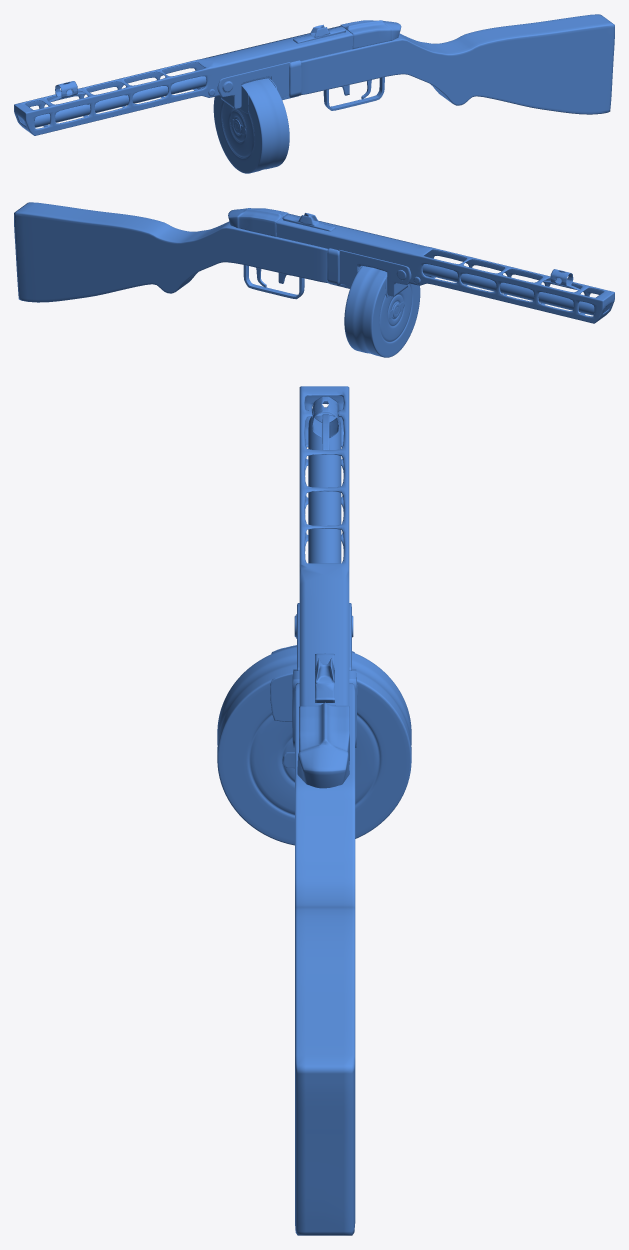
The model's file is for ele.obj.
3 views of the same model, one above another, from view 1: azimuth 30°, elevation 25°; view 2: azimuth 150°, elevation 25°; view 3: azimuth 270°, elevation 25° (orthographic). The views are drawn at different scales.
Parts seen in each view (by area): view 1: hand, Box008, Cylinder007, Cylinder006, Box012, Box006, trigger, Box003, Box007, Box009; view 2: hand, Box008, Cylinder007, Cylinder006, Box012, Box006, trigger, Box003, Box007, Box009; view 3: hand, Cylinder007, Box008, Box006, Cylinder006.
Boxes of the visible parts, <box> form: hand: <box>301,14,614,114</box>; Box008: <box>14,26,353,135</box>; Cylinder007: <box>213,78,289,173</box>; Cylinder006: <box>24,76,206,127</box>; Box012: <box>217,62,290,108</box>; Box006: <box>340,20,401,48</box>; trigger: <box>323,77,384,110</box>; Box003: <box>288,60,301,97</box>; Box007: <box>293,24,346,43</box>; Box009: <box>48,81,85,101</box>; hand: <box>14,202,327,302</box>; Box008: <box>276,213,614,323</box>; Cylinder007: <box>344,266,420,357</box>; Cylinder006: <box>422,264,603,315</box>; Box012: <box>338,249,411,296</box>; Box006: <box>228,208,288,236</box>; trigger: <box>243,265,304,299</box>; Box003: <box>327,248,340,285</box>; Box007: <box>282,213,335,231</box>; Box009: <box>542,269,579,290</box>; hand: <box>295,683,355,1235</box>; Cylinder007: <box>217,646,411,845</box>; Box008: <box>299,386,349,705</box>; Box006: <box>297,702,349,788</box>; Cylinder006: <box>308,416,341,563</box>.
Size of the model in its own units: 87.77 by 22.06 by 12.56.
